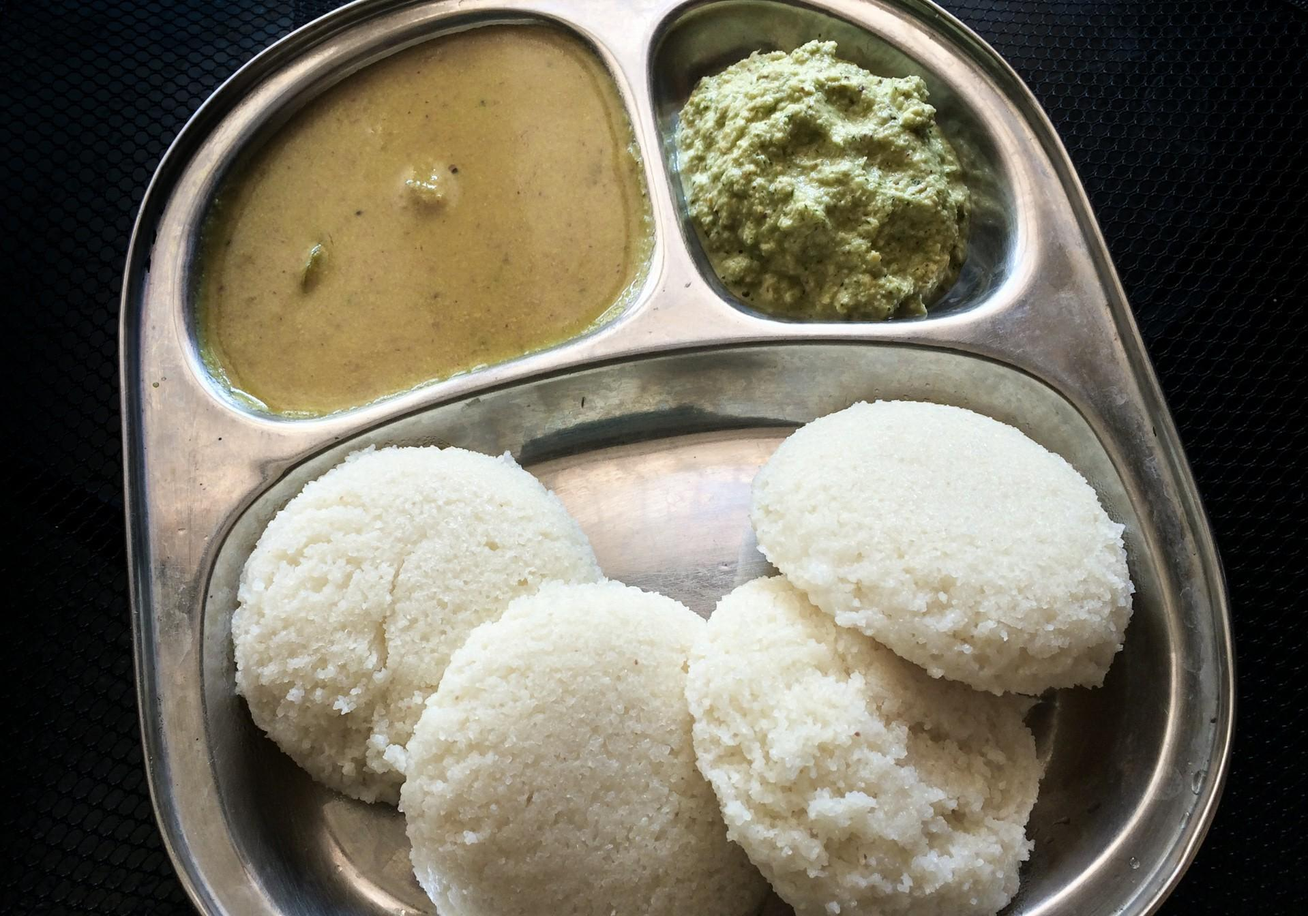Idli: (235, 447, 573, 806), (687, 573, 1043, 913), (752, 395, 1133, 700), (412, 576, 714, 913)
